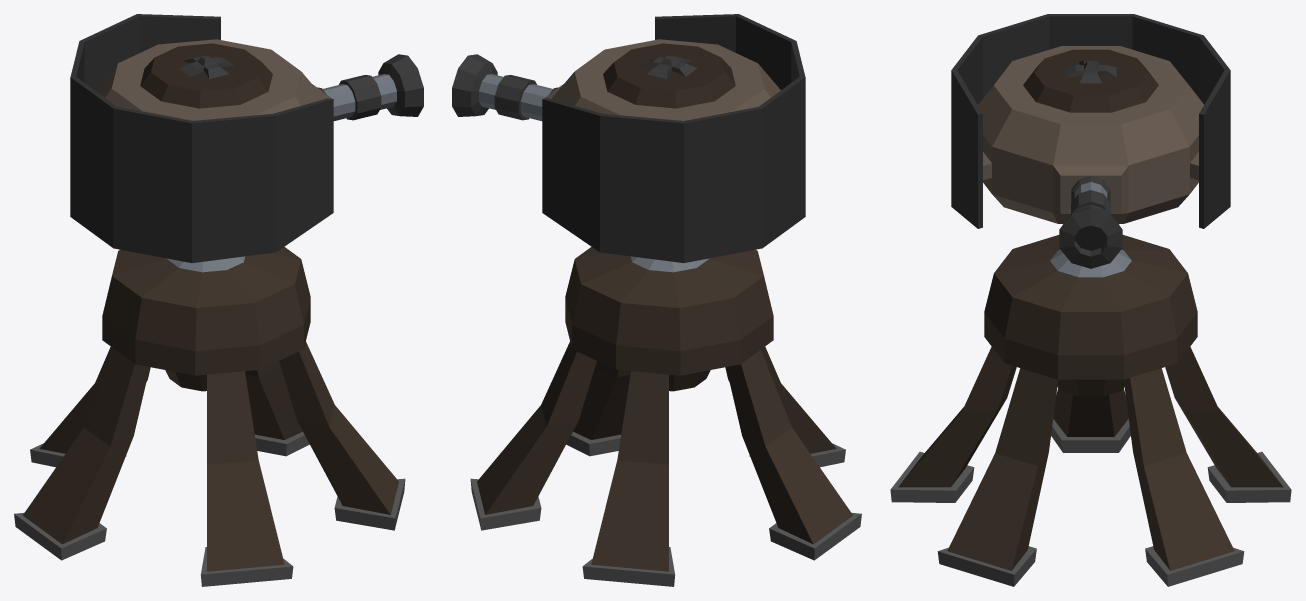
The model's file is Turret 2.fbx.
3 renders of one model, left to right at view 1: azimuth 30°, elevation 25°; view 2: azimuth 150°, elevation 25°; view 3: azimuth 270°, elevation 25°, orthographic.
Visible parts, largest first — view 1: Куб.002, Куб.003; view 2: Куб.002, Куб.003; view 3: Куб.002, Куб.003.
Part boxes in pixels (x1,y1,x2,y2): Куб.002: [14, 247, 405, 586]; Куб.003: [70, 14, 423, 262]; Куб.002: [470, 247, 861, 586]; Куб.003: [452, 14, 805, 262]; Куб.002: [890, 224, 1291, 586]; Куб.003: [951, 14, 1230, 268].
Bounding box in the file's own units: 71.76 × 81.41 × 66.28.
